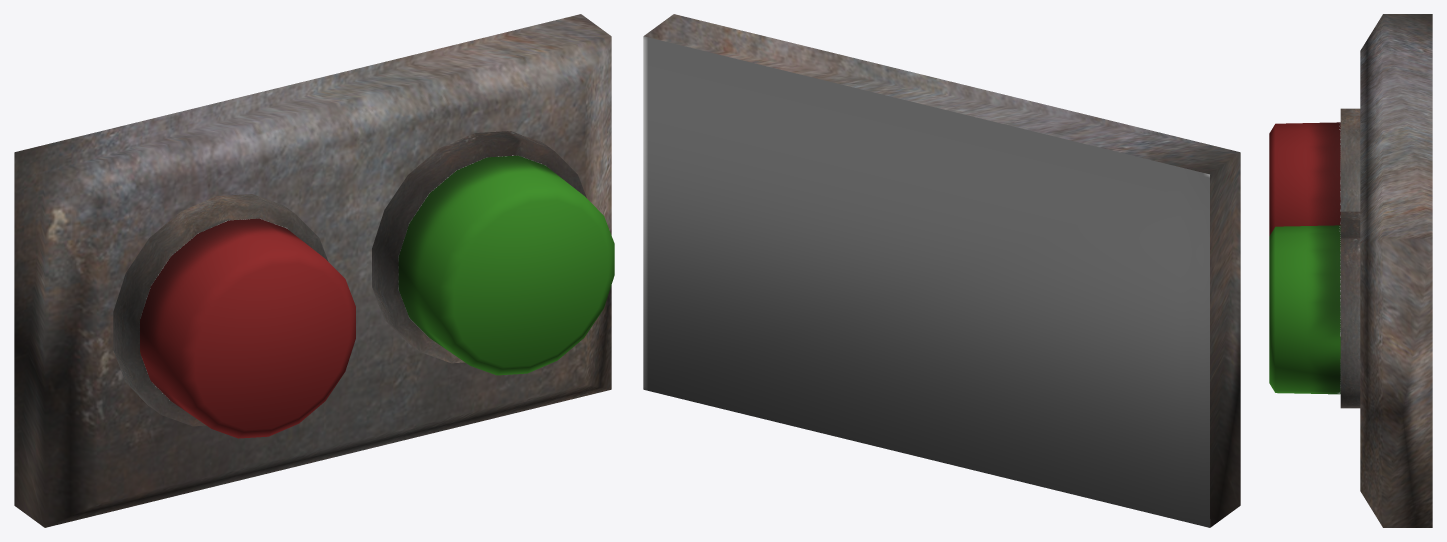
File: Double_button_switch.fbx
3 views of the same model, side by side, from view 1: azimuth 30°, elevation 25°; view 2: azimuth 150°, elevation 25°; view 3: azimuth 270°, elevation 25° (orthographic). The views are drawn at different scales.
Visible parts, largest first — view 1: Double_button_switch; view 2: Double_button_switch; view 3: Double_button_switch.
Boxes of the visible parts, left/top/right/bottom form: Double_button_switch: left=14, top=14, right=614, bottom=527; Double_button_switch: left=643, top=14, right=1240, bottom=527; Double_button_switch: left=1269, top=14, right=1432, bottom=527.
Bounding box in the file's own units: 9.98 × 5.95 × 3.05.
